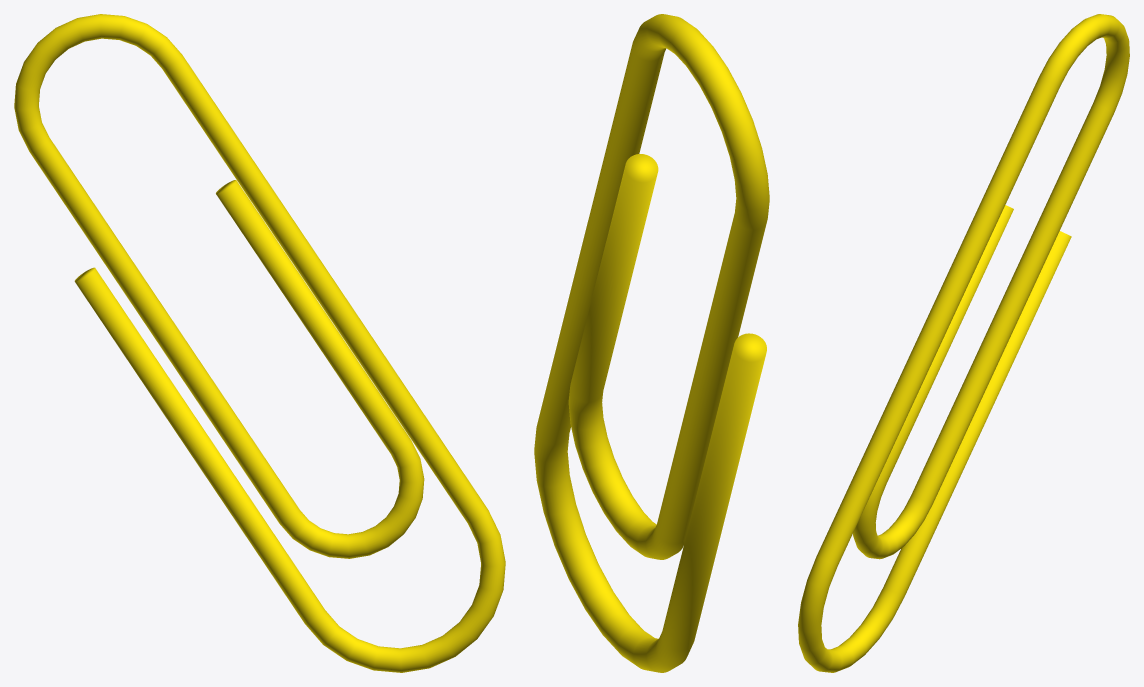
3 views of the same model, side by side, from view 1: azimuth 30°, elevation 25°; view 2: azimuth 150°, elevation 25°; view 3: azimuth 270°, elevation 25° (orthographic). The views are drawn at different scales.
Parts seen in each view (by area): view 1: Cylinder.007; view 2: Cylinder.007; view 3: Cylinder.007.
Part boxes in pixels (x1=…): Cylinder.007: x1=14, y1=14, x2=505, y2=672; Cylinder.007: x1=534, y1=14, x2=769, y2=672; Cylinder.007: x1=798, y1=14, x2=1129, y2=672.
Bounding box in the file's own units: 0.6431 × 1.13 × 0.5959.
